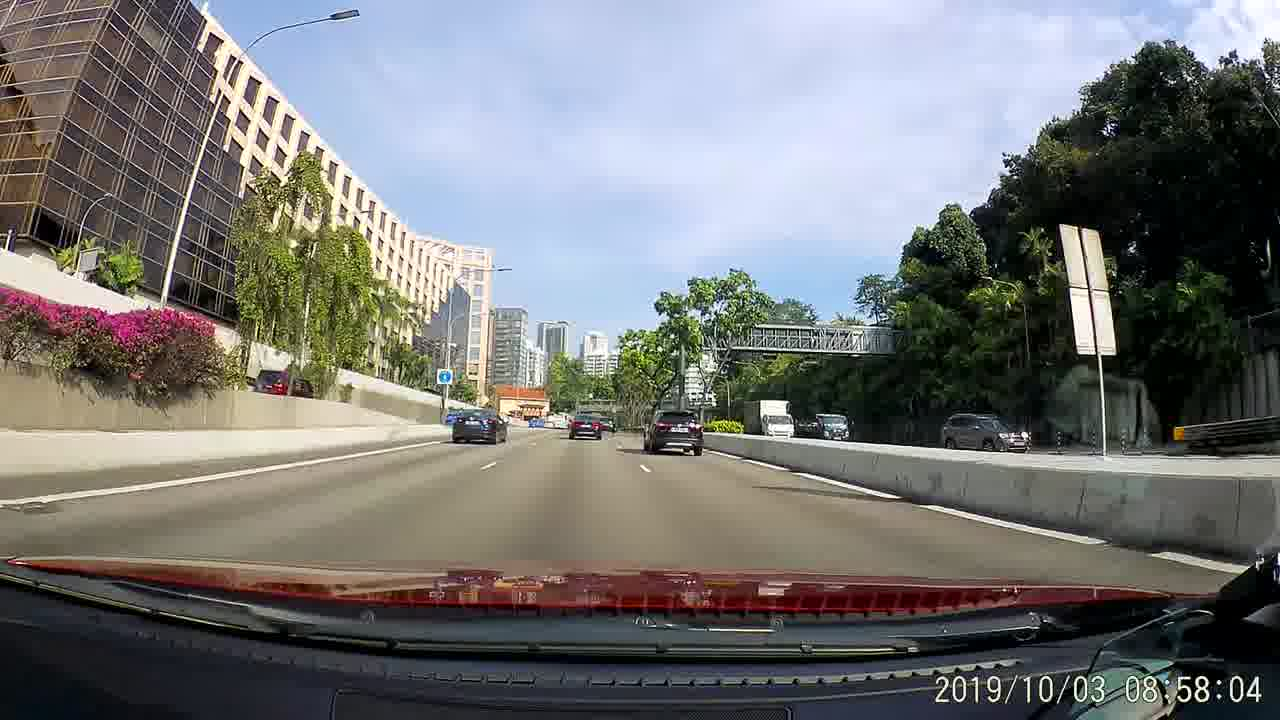car: (938, 411, 1031, 456), (644, 408, 705, 457), (456, 407, 506, 446), (571, 416, 602, 439)
